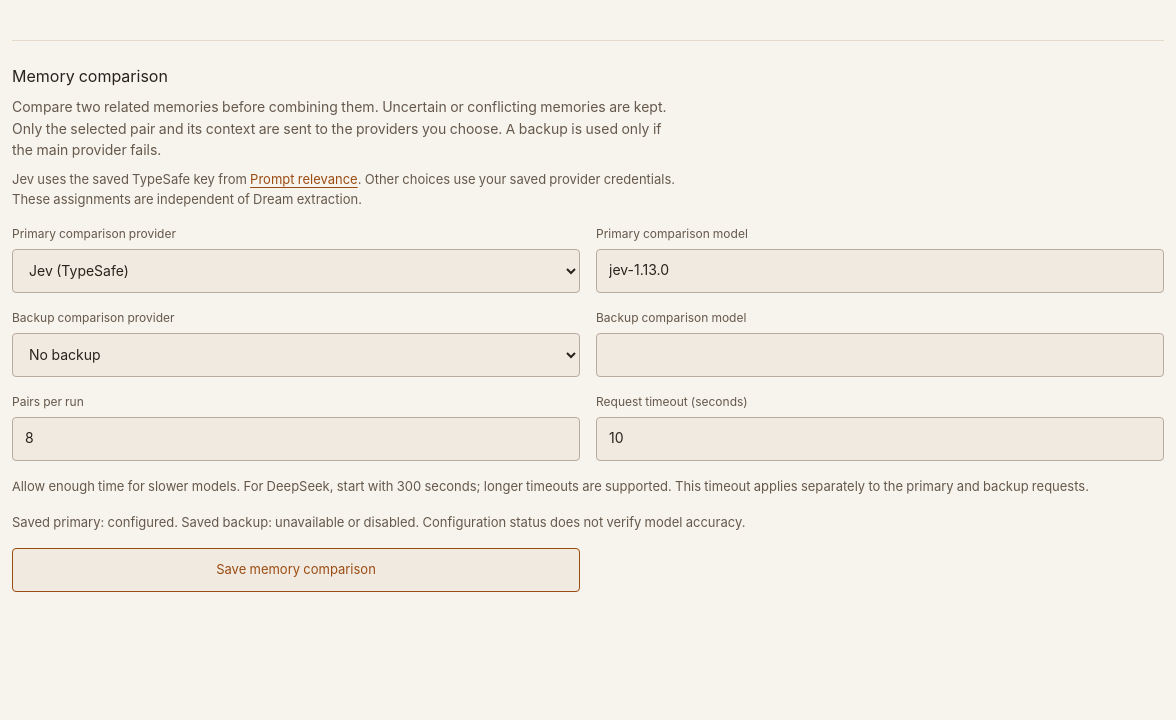
Scenario: failed save preserves the draft and reports the error
Replace the text in the field labelled "Primary comparison model" with "new-model" at (880, 271), box [596,249,1164,293]
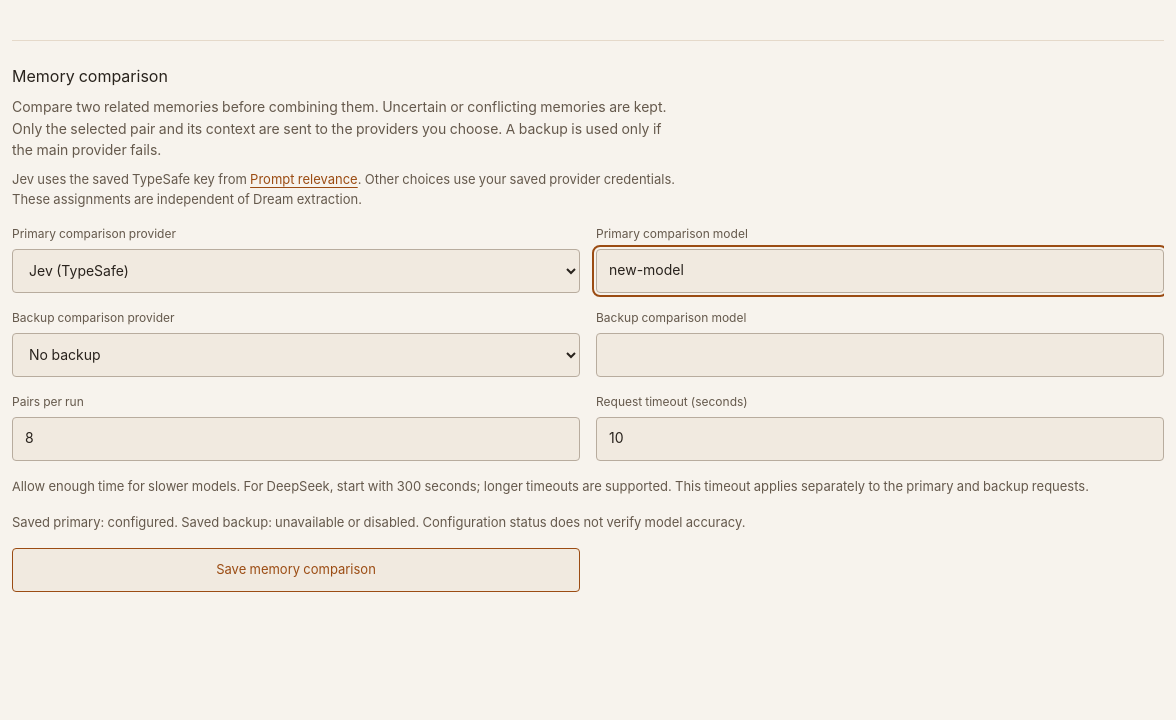
Click the button "Save memory comparison" at (296, 570), box [12,548,580,592]
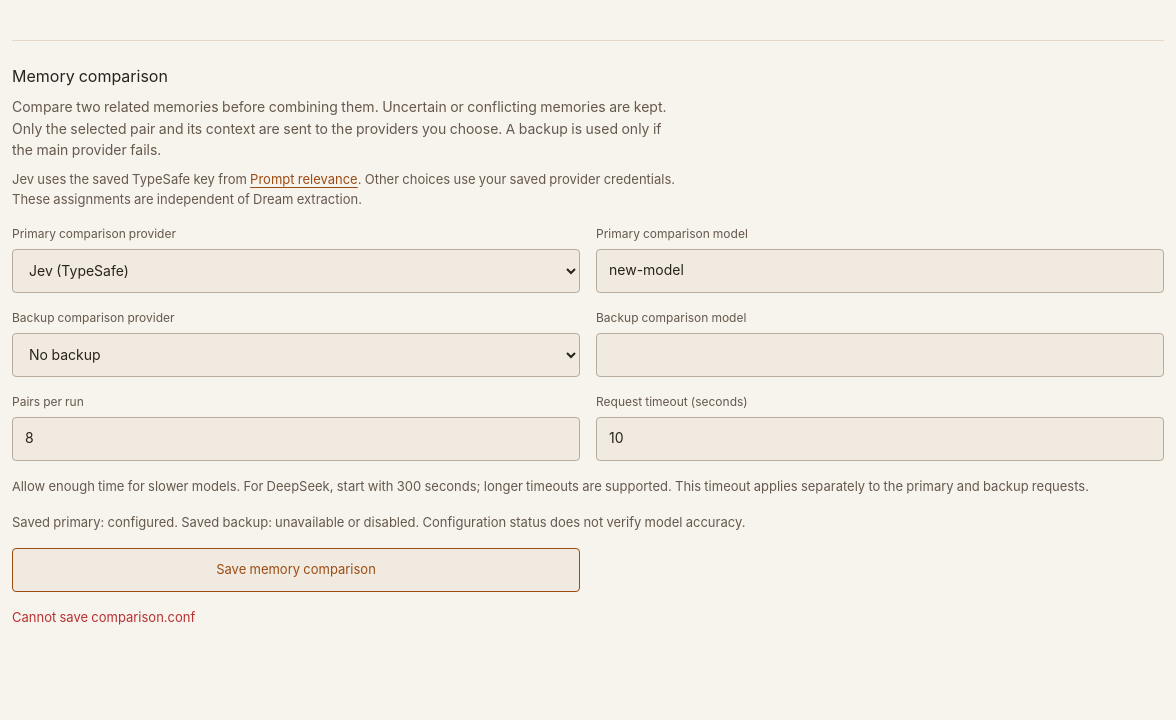
Expected: the field labelled "Primary comparison model" is enabled, [596,249,1164,293]
Result: the message shows "Cannot save" at [12,609,195,626]
